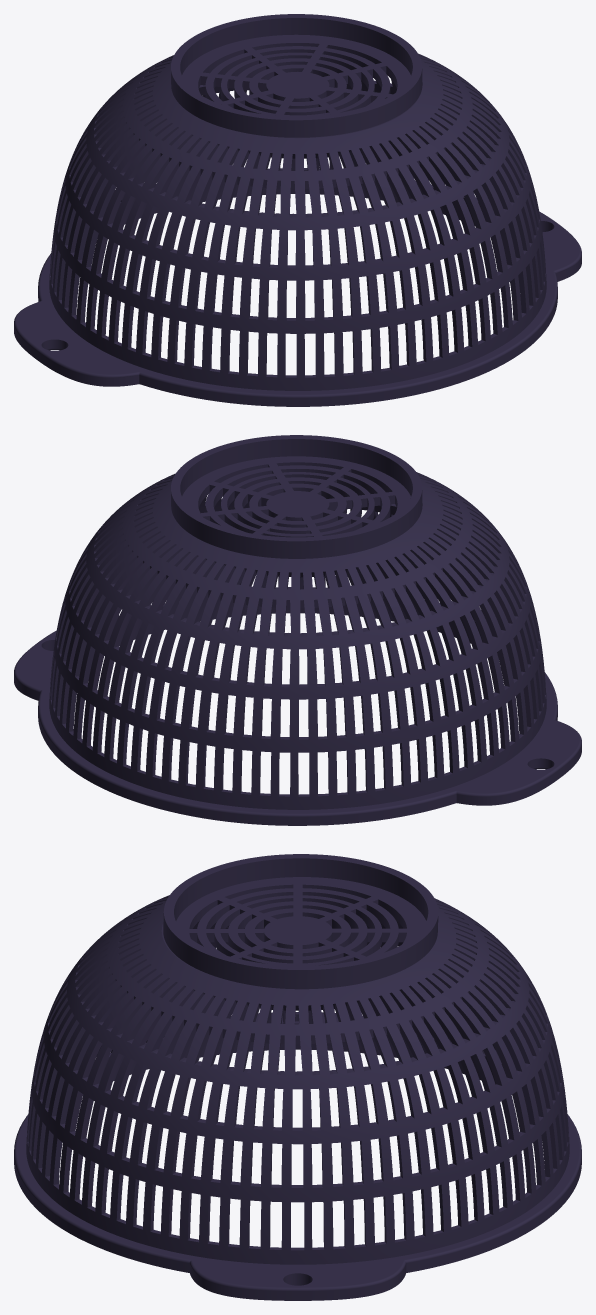
The model's file is plastico.glb.
3 views of the same model, one above another, from view 1: azimuth 30°, elevation 25°; view 2: azimuth 150°, elevation 25°; view 3: azimuth 270°, elevation 25° (orthographic). The views are drawn at different scales.
Parts seen in each view (by area): view 1: Object_9; view 2: Object_9; view 3: Object_9.
Boxes of the visible parts, bbox=[...] form: Object_9: bbox=[14, 14, 581, 406]; Object_9: bbox=[14, 435, 581, 825]; Object_9: bbox=[14, 854, 581, 1300].
Bounding box in the file's own units: 0.4649 × 0.1954 × 0.4022.
